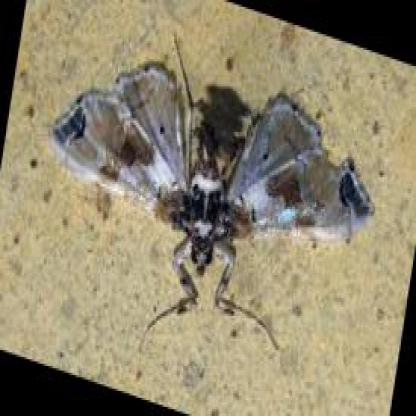leucinodes: (55, 71, 374, 284)
